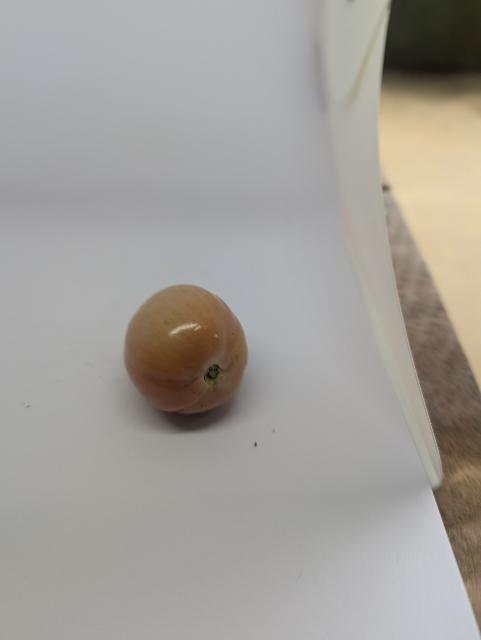turning: (121, 273, 260, 435)
